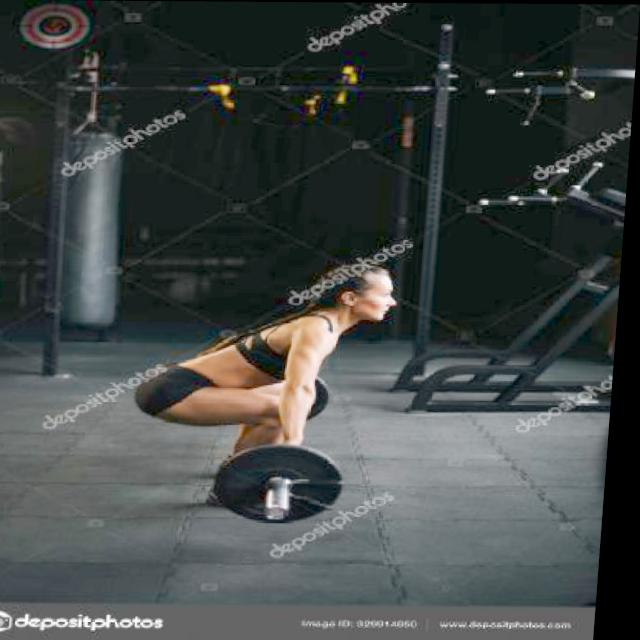barbell: (219, 435, 357, 531)
